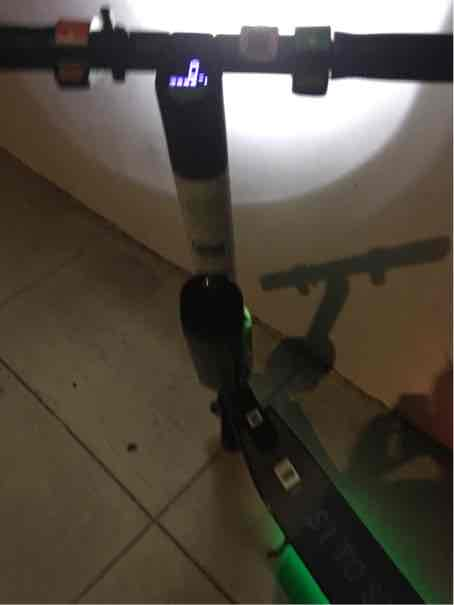scooter: (10, 13, 445, 605)
